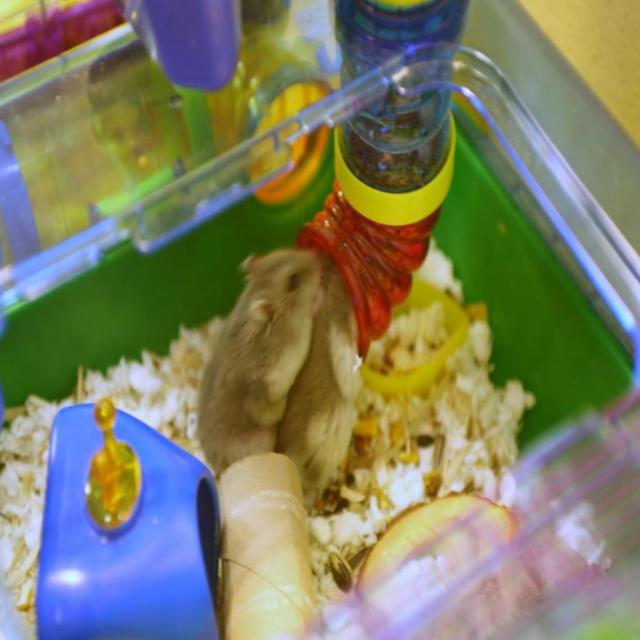rat: (200, 252, 324, 476), (274, 256, 369, 509)
